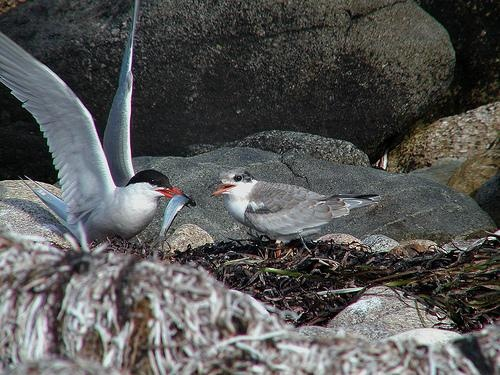bird: (1, 1, 188, 248), (208, 160, 378, 259)
